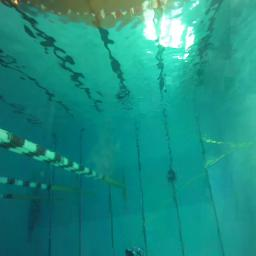Full: (166, 172, 179, 184)
front: (127, 241, 144, 256)
